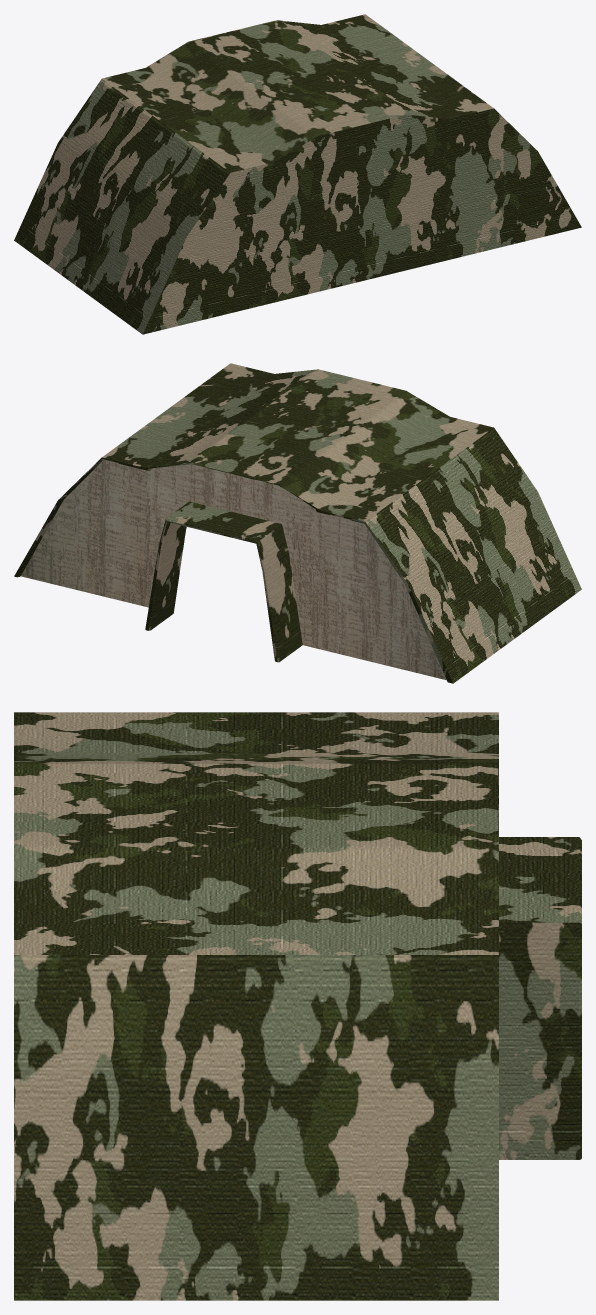
Rendered from Camo Tent.fbx.
The picture shows the model from 3 angles, top to bottom: view 1: azimuth 30°, elevation 25°; view 2: azimuth 150°, elevation 25°; view 3: azimuth 270°, elevation 25°; orthographic projection. The views are drawn at different scales.
Visible parts, largest first — view 1: pPlane2; view 2: pPlane2; view 3: pPlane2.
Boxes of the visible parts, box(x1,y1,x2,y2) form: pPlane2: box(14, 14, 581, 334); pPlane2: box(14, 363, 581, 683); pPlane2: box(14, 712, 581, 1300).
Size of the model in its own units: 10 by 3.4 by 5.94.
2 materials, 2 textured.
